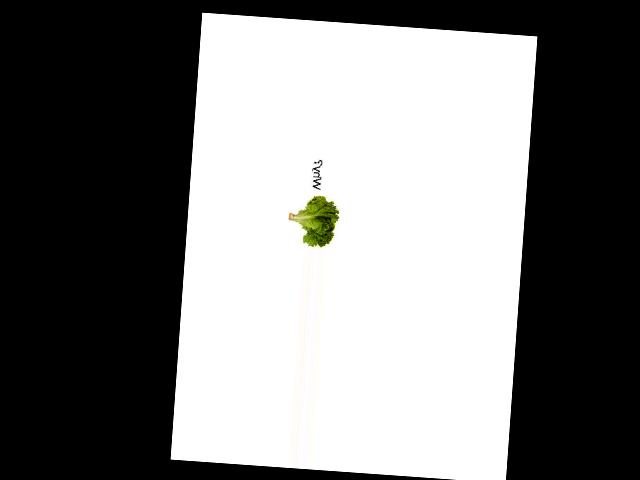lettuce: (285, 188, 340, 249)
